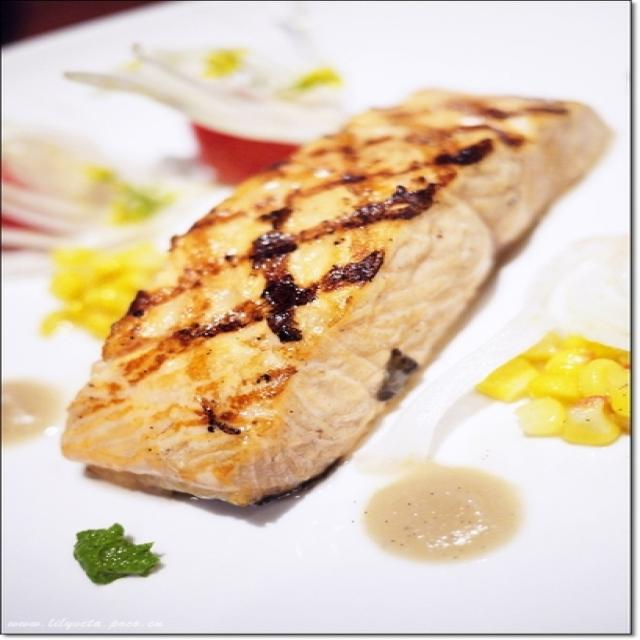熟制海鲜: (77, 66, 606, 547)
